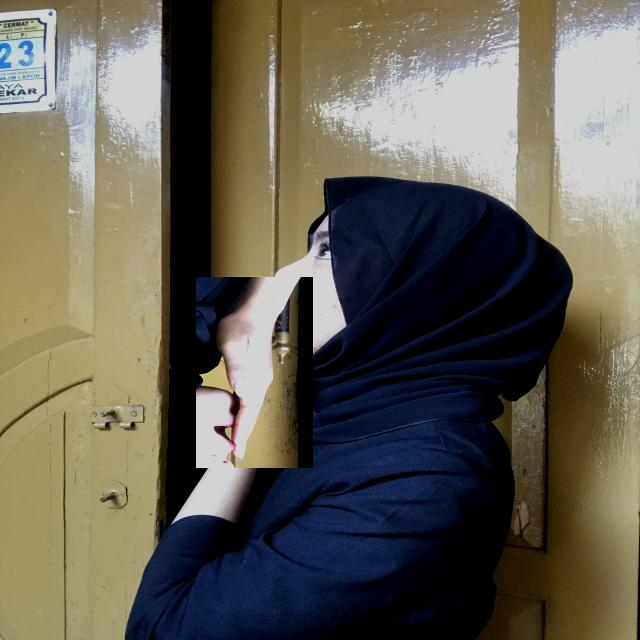ngantuk: (196, 276, 314, 468)
